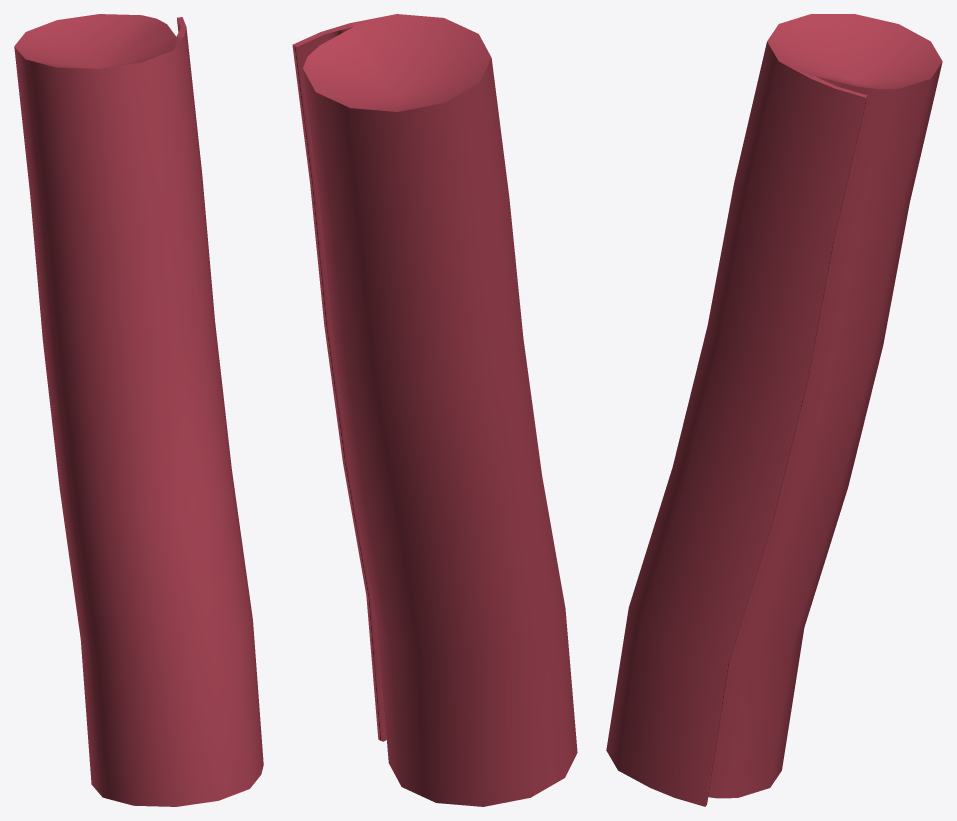
Rendered from carpet_02.fbx.
The picture shows the model from 3 angles, left to right: view 1: azimuth 30°, elevation 25°; view 2: azimuth 150°, elevation 25°; view 3: azimuth 270°, elevation 25°; orthographic projection. The views are drawn at different scales.
Visible parts, largest first — view 1: pCylinder34; view 2: pCylinder34; view 3: pCylinder34.
Part boxes in pixels (bbox=[...]): pCylinder34: bbox=[14, 14, 263, 806]; pCylinder34: bbox=[292, 14, 577, 806]; pCylinder34: bbox=[606, 14, 942, 806].
Size of the model in its own units: 0.4903 by 2.02 by 0.8447.
